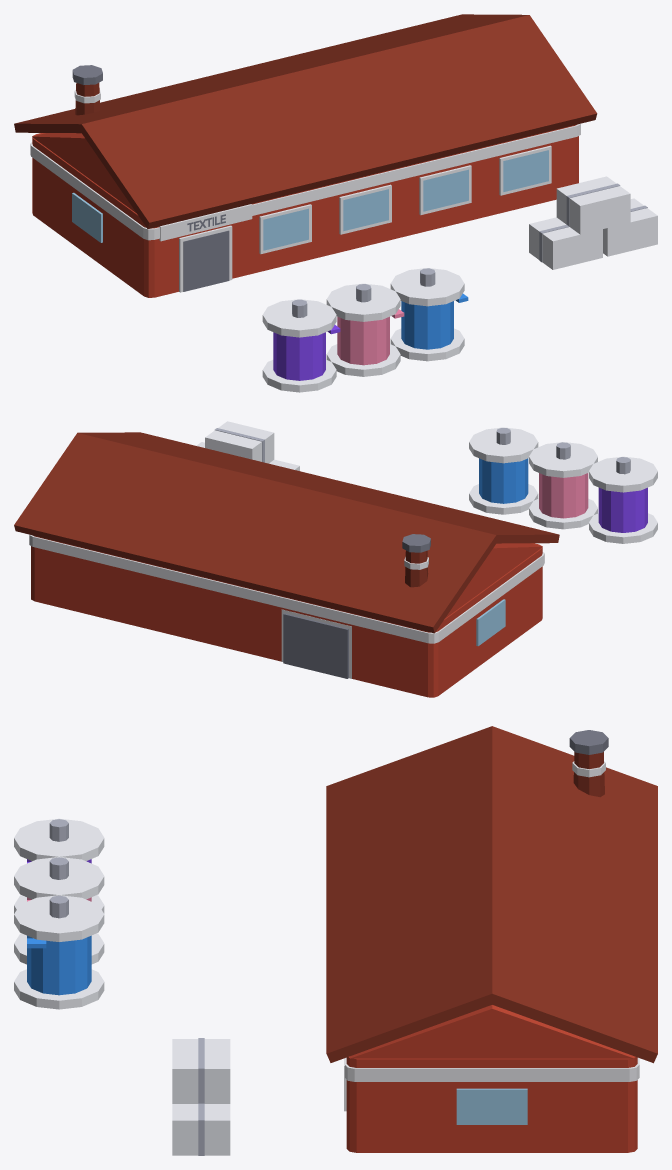
Rendered from textile-mill-2x2-t3-tone-a.glb.
The picture shows the model from 3 angles, top to bottom: view 1: azimuth 30°, elevation 25°; view 2: azimuth 150°, elevation 25°; view 3: azimuth 270°, elevation 25°; orthographic projection. The views are drawn at different scales.
Visible parts, largest first — view 1: textile-mill-2x2-t3-tone-a; view 2: textile-mill-2x2-t3-tone-a; view 3: textile-mill-2x2-t3-tone-a.
Boxes of the visible parts, x1,y1,x2,y2 form: textile-mill-2x2-t3-tone-a: [14, 14, 657, 392]; textile-mill-2x2-t3-tone-a: [14, 421, 657, 697]; textile-mill-2x2-t3-tone-a: [14, 726, 657, 1155].
Size of the model in its own units: 1.96 by 0.61 by 1.99.
1 material, 1 textured.
